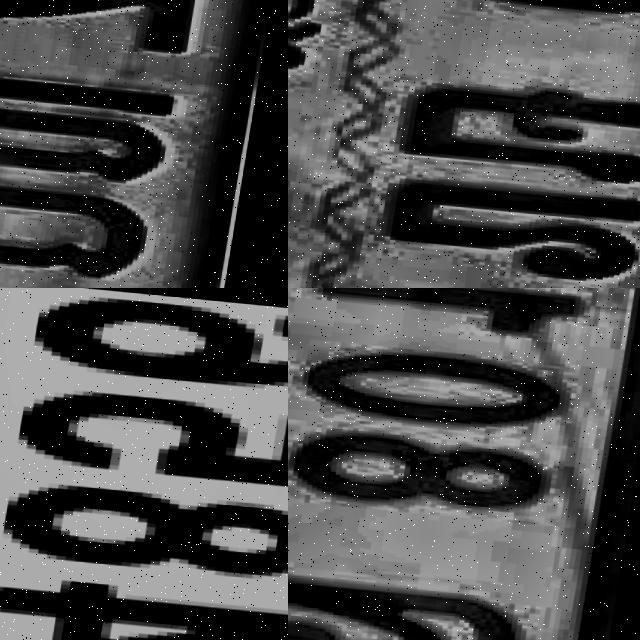license-plate: (288, 288, 640, 640), (288, 0, 640, 288), (0, 288, 288, 640), (0, 0, 288, 288)
